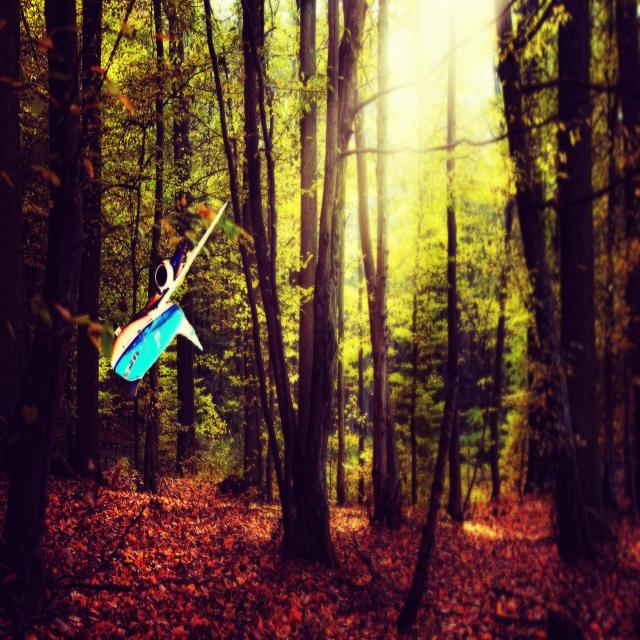airplane: (110, 198, 230, 393)
